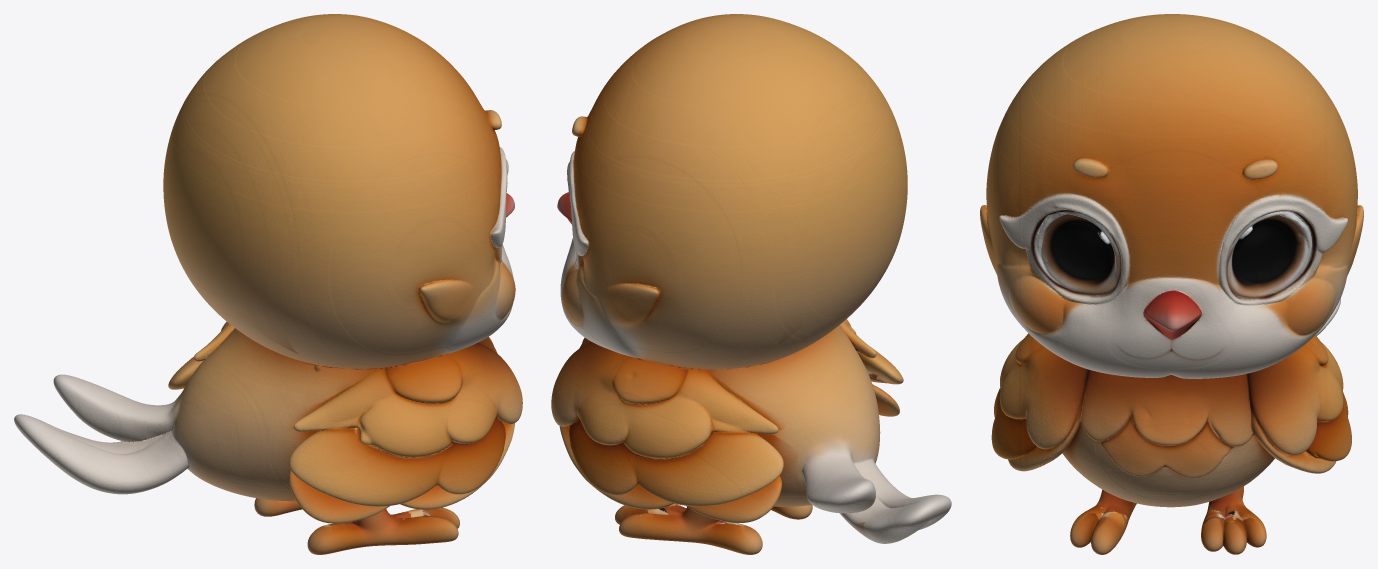
File: cute-birdy.glb
The picture shows the model from 3 angles, left to right: view 1: azimuth 30°, elevation 25°; view 2: azimuth 150°, elevation 25°; view 3: azimuth 270°, elevation 25°; orthographic projection.
Visible parts, largest first — view 1: tripo_part_10_Clone, tripo_part_8_Clone, tripo_part_3_Clone, tripo_part_1_Clone, tripo_part_13_Clone, tripo_part_6_Clone, tripo_part_0_Clone, tripo_part_4_Clone, tripo_part_2_Clone, tripo_part_11_Clone; view 2: tripo_part_10_Clone, tripo_part_15_Clone, tripo_part_8_Clone, tripo_part_16_Clone, tripo_part_13_Clone, tripo_part_11_Clone, tripo_part_18_Clone, tripo_part_1_Clone, tripo_part_14_Clone, tripo_part_17_Clone, tripo_part_3_Clone; view 3: tripo_part_10_Clone, tripo_part_7_Clone, tripo_part_4_Clone, tripo_part_14_Clone, tripo_part_15_Clone, tripo_part_8_Clone, tripo_part_3_Clone, tripo_part_11_Clone, tripo_part_16_Clone, tripo_part_6_Clone, tripo_part_1_Clone, tripo_part_2_Clone (+4 smaller).
Part boxes in pixels (box(x1,y1,x2,y2)): tripo_part_10_Clone: box(163, 14, 513, 369); tripo_part_8_Clone: box(165, 328, 373, 501); tripo_part_3_Clone: box(293, 343, 522, 457); tripo_part_1_Clone: box(289, 418, 514, 523); tripo_part_13_Clone: box(14, 374, 188, 494); tripo_part_6_Clone: box(307, 507, 459, 554); tripo_part_0_Clone: box(419, 278, 474, 324); tripo_part_4_Clone: box(490, 147, 508, 265); tripo_part_2_Clone: box(495, 262, 515, 319); tripo_part_11_Clone: box(254, 498, 302, 516); tripo_part_10_Clone: box(560, 14, 907, 369); tripo_part_15_Clone: box(551, 342, 778, 459); tripo_part_8_Clone: box(712, 325, 880, 506); tripo_part_16_Clone: box(559, 418, 783, 523); tripo_part_13_Clone: box(801, 438, 951, 543); tripo_part_11_Clone: box(615, 503, 762, 554); tripo_part_18_Clone: box(597, 279, 660, 328); tripo_part_1_Clone: box(857, 347, 903, 416); tripo_part_14_Clone: box(567, 151, 589, 273); tripo_part_17_Clone: box(562, 270, 583, 325); tripo_part_3_Clone: box(840, 319, 876, 358); tripo_part_10_Clone: box(986, 14, 1357, 378); tripo_part_7_Clone: box(1075, 369, 1251, 477); tripo_part_4_Clone: box(999, 191, 1130, 304); tripo_part_14_Clone: box(1218, 194, 1347, 305); tripo_part_15_Clone: box(1244, 335, 1343, 455); tripo_part_8_Clone: box(1062, 424, 1274, 507); tripo_part_3_Clone: box(999, 333, 1087, 449); tripo_part_11_Clone: box(1201, 486, 1266, 554); tripo_part_16_Clone: box(1249, 391, 1351, 473); tripo_part_6_Clone: box(1070, 489, 1136, 554); tripo_part_1_Clone: box(991, 388, 1071, 471); tripo_part_2_Clone: box(1008, 275, 1066, 334).
Size of the model in its own units: 0.9294 by 1 by 0.7117.
1 material, 1 textured.
